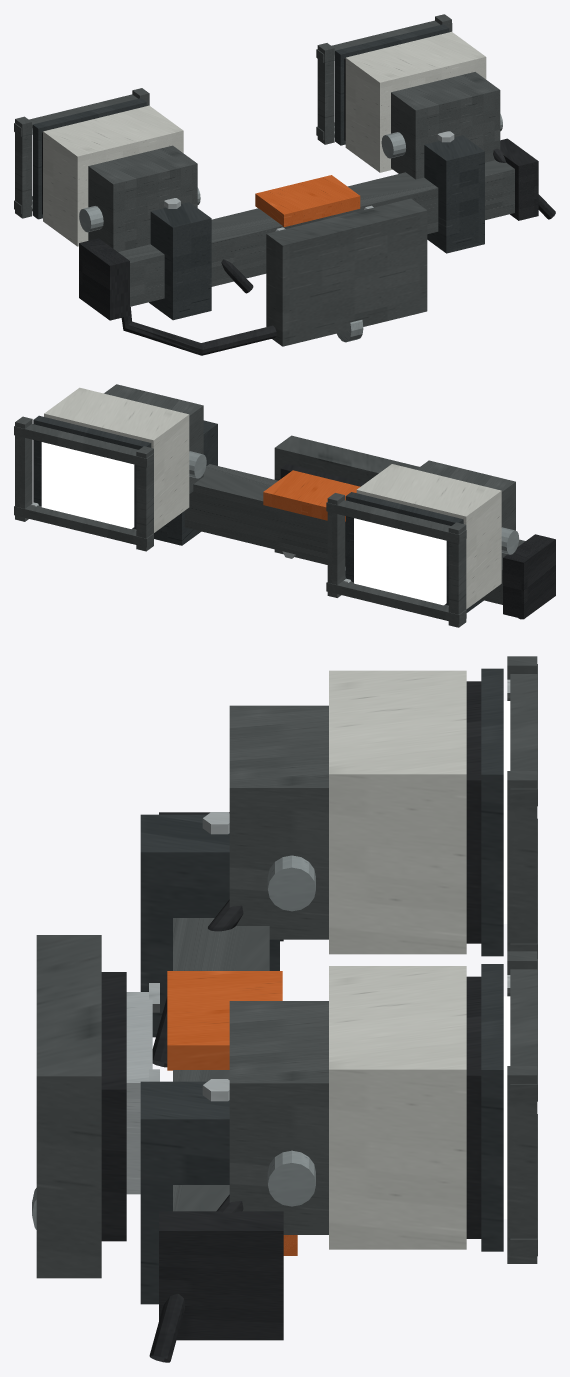
File: gary_worklights.glb
3 renders of one model, top to bottom at view 1: azimuth 30°, elevation 25°; view 2: azimuth 150°, elevation 25°; view 3: azimuth 270°, elevation 25°, orthographic. The views are drawn at different scales.
Parts seen in each view (by area): view 1: rear_key_plate_dark_alloy, cross_bar_dark_alloy, light_body_R_rover_white, light_body_L_rover_white, light_fork_L_dark_alloy, light_fork_R_dark_alloy, bracket_L_graphite, bracket_R_graphite, centrallight_bar_orange, bar_endcap_L_black_rubber, main_supply_lead_black_rubber, light_front_bezel_R_graphite (+9 smaller); view 2: cross_bar_dark_alloy, light_body_R_rover_white, light_body_L_rover_white, light_wide_lens_R_lamp_white, light_wide_lens_L_lamp_white, bar_endcap_L_black_rubber, rear_key_plate_dark_alloy, centrallight_bar_orange, light_impact_guard_L_0.046_dark_alloy, light_impact_guard_R_0.046_dark_alloy, light_impact_guard_L_-0.046_dark_alloy, light_impact_guard_R_-0.046_dark_alloy (+12 smaller); view 3: light_body_L_rover_white, light_body_R_rover_white, rear_key_plate_dark_alloy, light_fork_L_dark_alloy, light_fork_R_dark_alloy, bar_endcap_R_black_rubber, bracket_L_graphite, bracket_R_graphite, centrallight_bar_orange, tongue_gasket_black_rubber, light_front_bezel_L_graphite, light_front_bezel_R_graphite (+14 smaller).
Boxes of the visible parts, x1=… form: rear_key_plate_dark_alloy: x1=266, y1=198, x2=427, y2=346; cross_bar_dark_alloy: x1=118, y1=160, x2=514, y2=306; light_body_R_rover_white: x1=345, y1=31, x2=486, y2=172; light_body_L_rover_white: x1=43, y1=105, x2=183, y2=246; light_fork_L_dark_alloy: x1=88, y1=145, x2=197, y2=251; light_fork_R_dark_alloy: x1=391, y1=72, x2=500, y2=179; bracket_L_graphite: x1=149, y1=202, x2=211, y2=320; bracket_R_graphite: x1=424, y1=135, x2=484, y2=253; centrallight_bar_orange: x1=255, y1=175, x2=360, y2=227; bar_endcap_L_black_rubber: x1=79, y1=238, x2=129, y2=320; main_supply_lead_black_rubber: x1=121, y1=307, x2=276, y2=355; light_front_bezel_R_graphite: x1=335, y1=24, x2=449, y2=145; cross_bar_dark_alloy: x1=184, y1=464, x2=525, y2=604; light_body_R_rover_white: x1=44, y1=387, x2=189, y2=532; light_body_L_rover_white: x1=356, y1=464, x2=501, y2=609; light_wide_lens_R_lamp_white: x1=41, y1=442, x2=134, y2=528; light_wide_lens_L_lamp_white: x1=354, y1=518, x2=446, y2=605; bar_endcap_L_black_rubber: x1=503, y1=534, x2=555, y2=619; rear_key_plate_dark_alloy: x1=274, y1=435, x2=419, y2=564; centrallight_bar_orange: x1=263, y1=470, x2=360, y2=521; light_impact_guard_L_0.046_dark_alloy: x1=326, y1=500, x2=466, y2=543; light_impact_guard_R_0.046_dark_alloy: x1=14, y1=424, x2=153, y2=467; light_impact_guard_L_-0.046_dark_alloy: x1=326, y1=581, x2=466, y2=623; light_impact_guard_R_-0.046_dark_alloy: x1=14, y1=505, x2=153, y2=547; light_body_L_rover_white: x1=329, y1=670, x2=466, y2=954; light_body_R_rover_white: x1=329, y1=966, x2=466, y2=1249; rear_key_plate_dark_alloy: x1=36, y1=935, x2=101, y2=1278; light_fork_L_dark_alloy: x1=229, y1=705, x2=328, y2=939; light_fork_R_dark_alloy: x1=229, y1=1001, x2=328, y2=1234; bar_endcap_R_black_rubber: x1=159, y1=1211, x2=283, y2=1340; bracket_L_graphite: x1=140, y1=814, x2=279, y2=1037; bracket_R_graphite: x1=140, y1=1081, x2=229, y2=1304; centrallight_bar_orange: x1=167, y1=971, x2=282, y2=1070; tongue_gasket_black_rubber: x1=101, y1=972, x2=126, y2=1241; light_front_bezel_L_graphite: x1=481, y1=668, x2=503, y2=956; light_front_bezel_R_graphite: x1=481, y1=964, x2=503, y2=1251.
Size of the model in its own units: 0.5558 by 0.223 by 0.2725.
8 materials, 8 textured.
